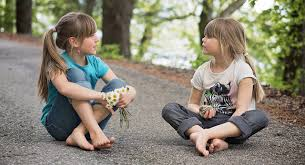person: (27, 5, 130, 92), (175, 12, 265, 105)
